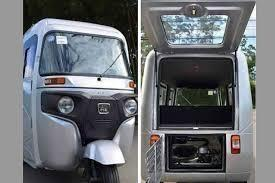keke: (22, 17, 135, 183)
